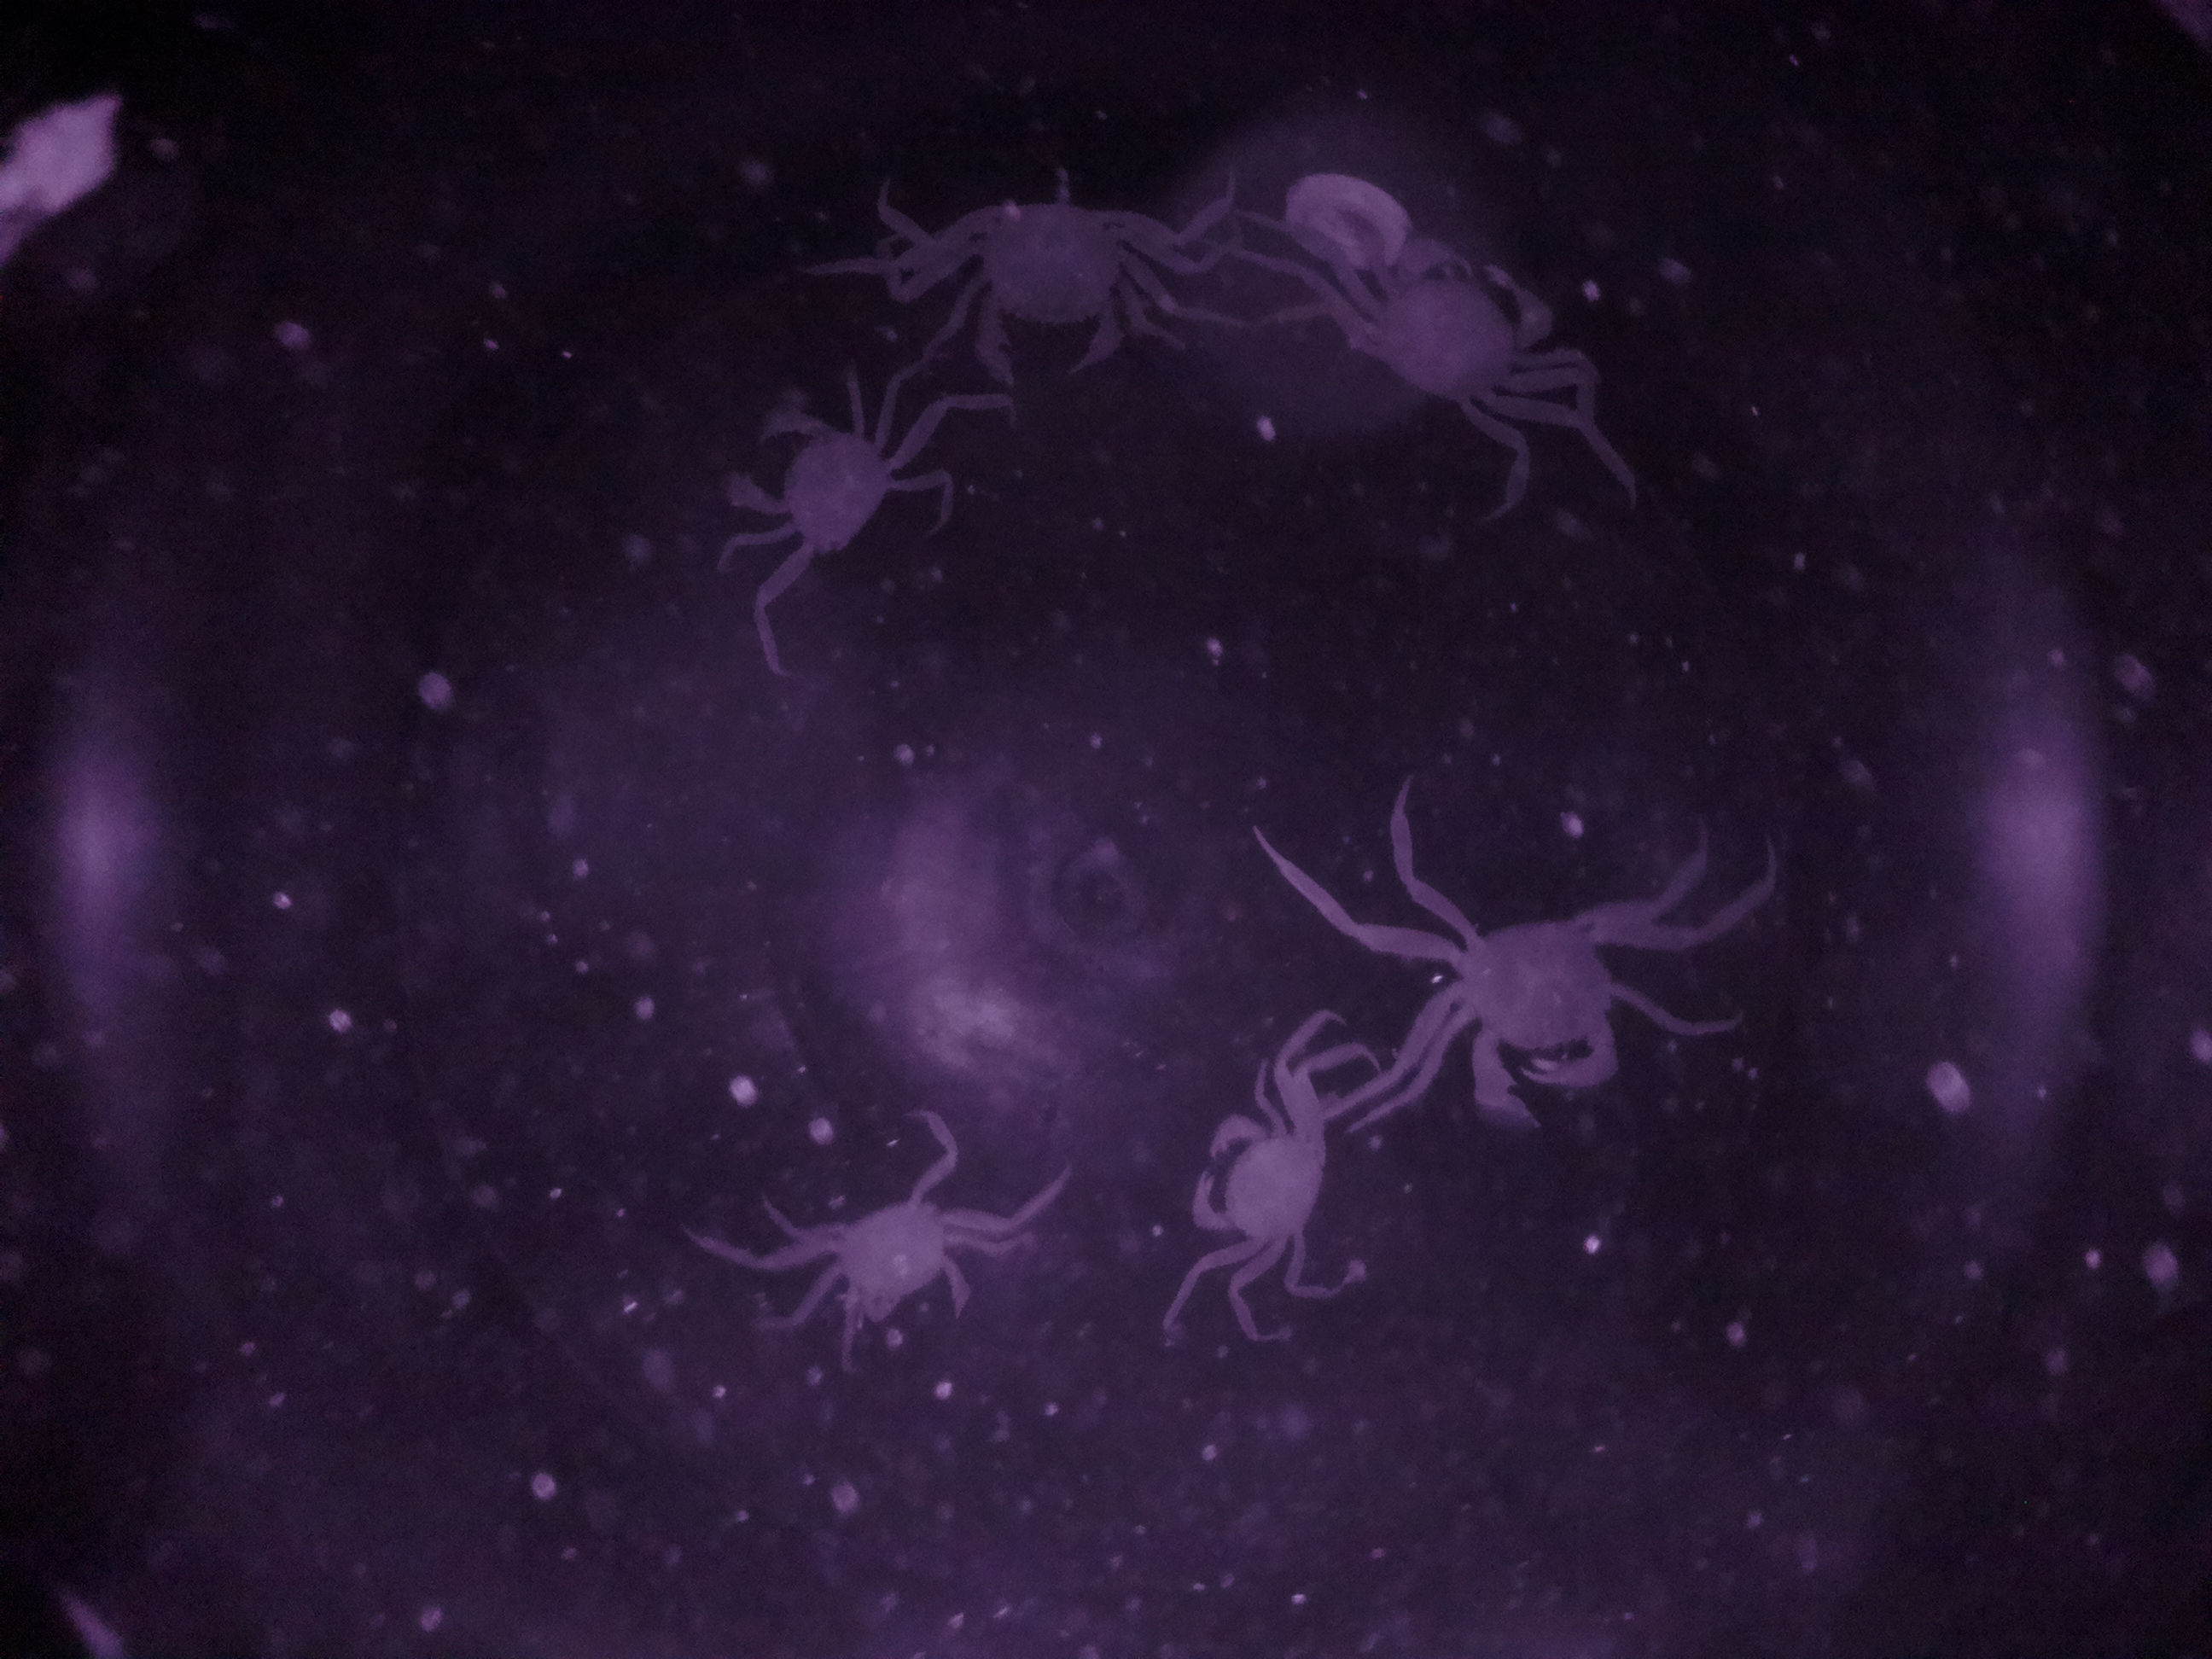Crab: (1372, 875, 1731, 1140), (1270, 223, 1627, 448), (911, 173, 1216, 397), (751, 1140, 1038, 1351), (711, 385, 956, 603), (1172, 1028, 1366, 1298)
